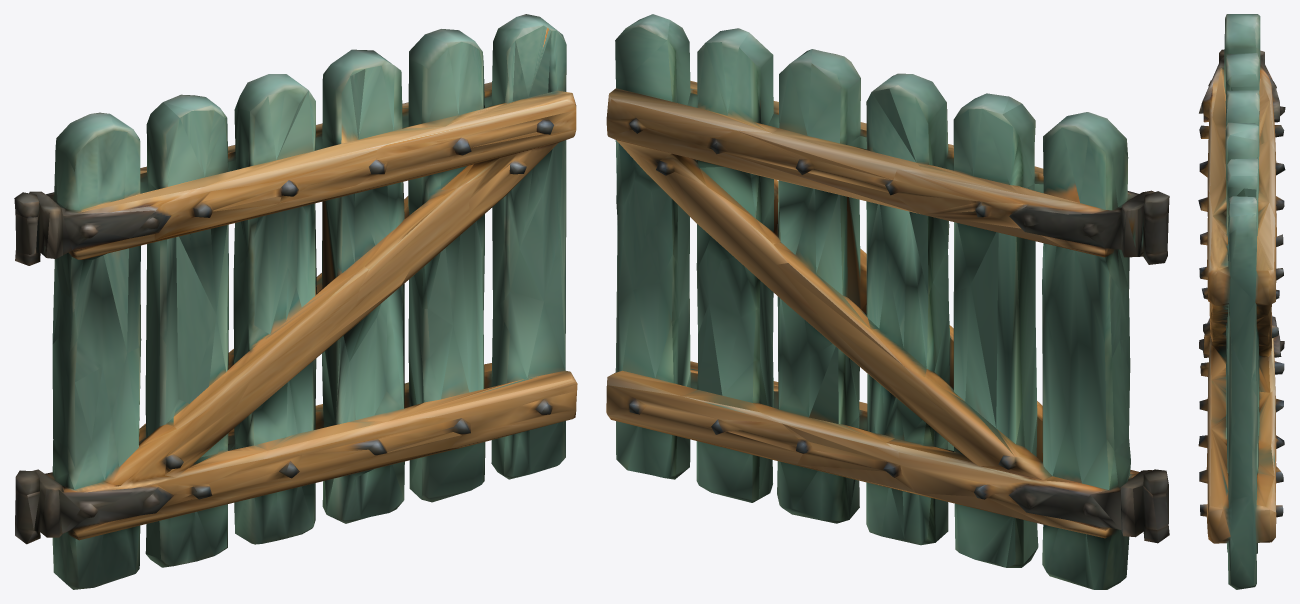
The model's file is gate_leaf.glb.
The picture shows the model from 3 angles, left to right: view 1: azimuth 30°, elevation 25°; view 2: azimuth 150°, elevation 25°; view 3: azimuth 270°, elevation 25°; orthographic projection. The views are drawn at different scales.
Parts seen in each view (by area): view 1: tripo_node_0cc7a61d; view 2: tripo_node_0cc7a61d; view 3: tripo_node_0cc7a61d.
Boxes of the visible parts, x1,y1,x2,y2 form: tripo_node_0cc7a61d: (14,14,577,589); tripo_node_0cc7a61d: (606,14,1169,589); tripo_node_0cc7a61d: (1198,14,1285,589).
Size of the model in its own units: 1.09 by 0.8793 by 0.179.
Materials: 1 (1 with a texture image).
